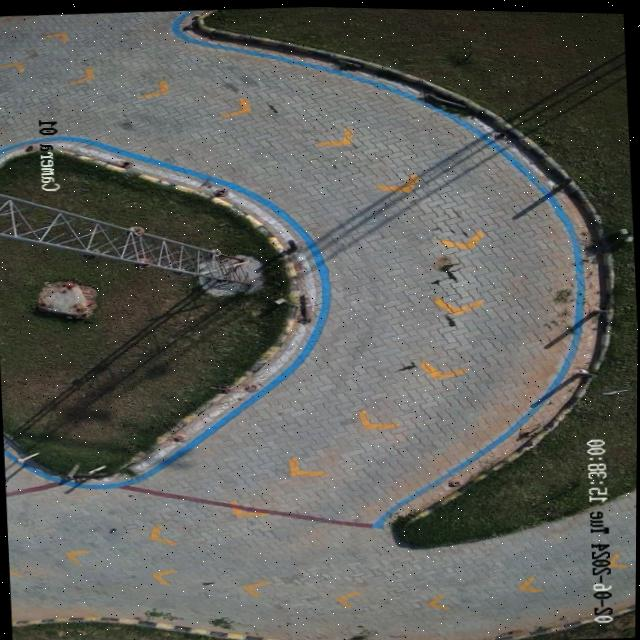No Car: (0, 5, 638, 640)
